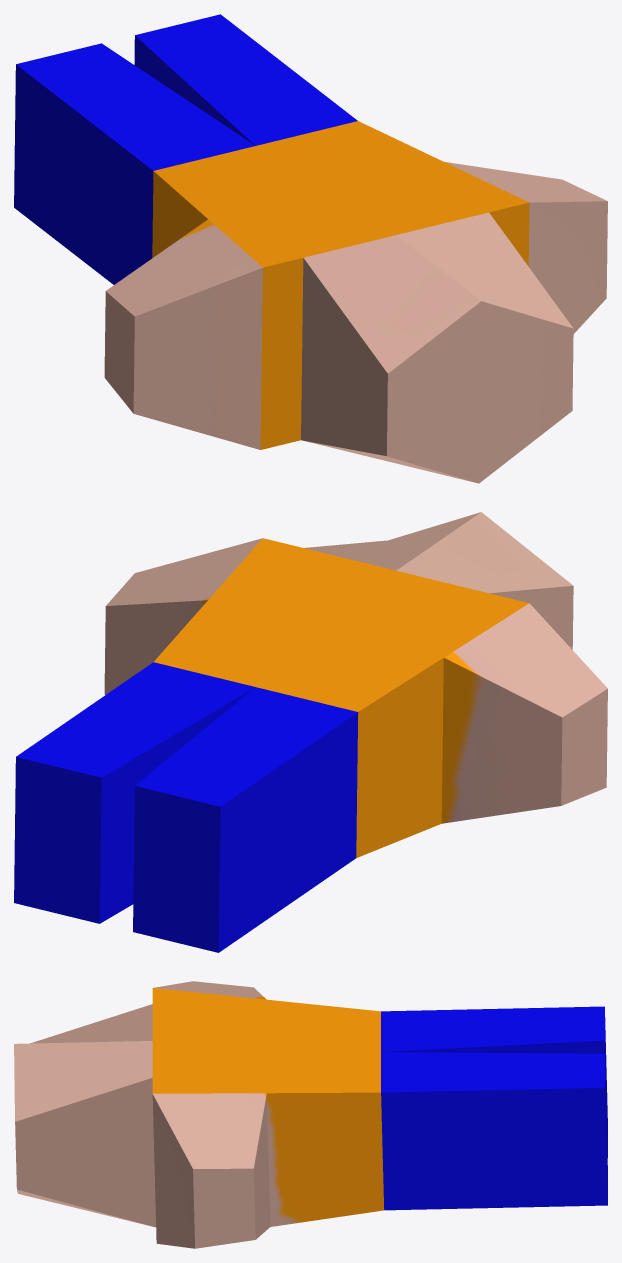
File: child.fbx
The picture shows the model from 3 angles, top to bottom: view 1: azimuth 30°, elevation 25°; view 2: azimuth 150°, elevation 25°; view 3: azimuth 270°, elevation 25°; orthographic projection. The views are drawn at different scales.
Parts seen in each view (by area): view 1: Cube; view 2: Cube; view 3: Cube.
Part boxes in pixels (<box>): Cube: <box>14,14,607,483</box>; Cube: <box>14,512,607,952</box>; Cube: <box>14,981,607,1248</box>.
Bounding box in the file's own units: 6.84 × 2.6 × 9.14.
